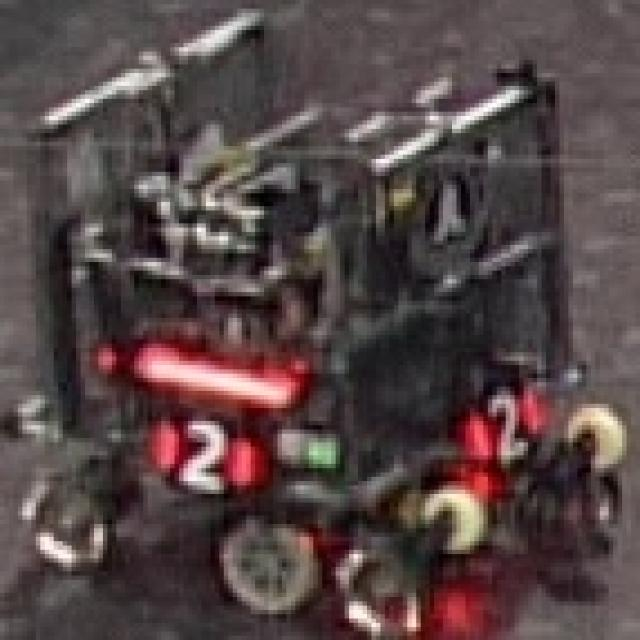R2: (152, 412, 255, 490), (461, 382, 546, 464)
